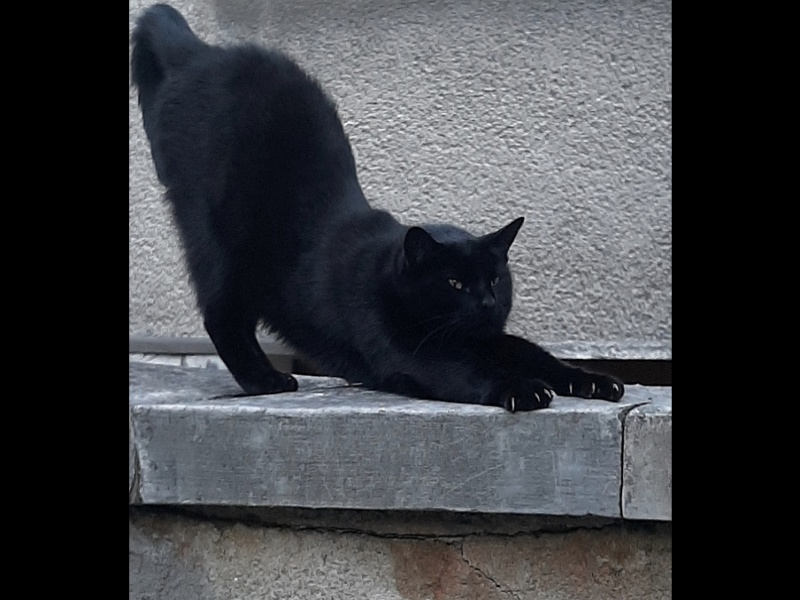cat: (133, 1, 630, 416)
